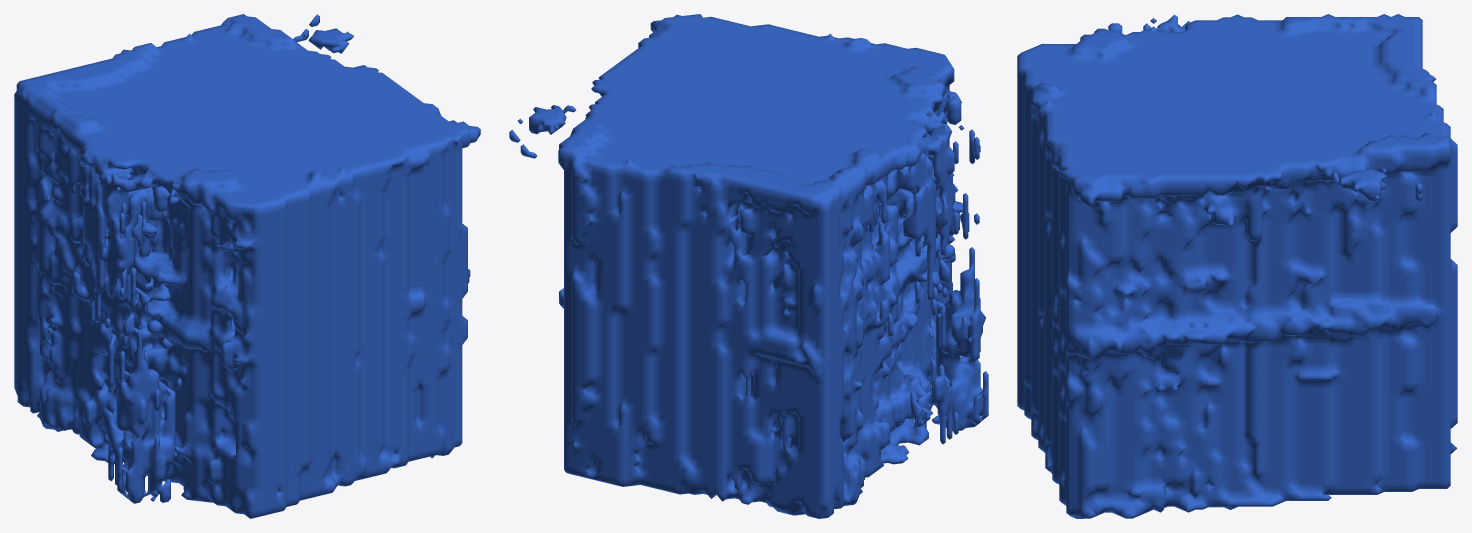
Rendered from gen9_colored.obj.
The picture shows the model from 3 angles, left to right: view 1: azimuth 30°, elevation 25°; view 2: azimuth 150°, elevation 25°; view 3: azimuth 270°, elevation 25°; orthographic projection. The views are drawn at different scales.
Parts seen in each view (by area): view 1: gen9.obj; view 2: gen9.obj; view 3: gen9.obj.
Part boxes in pixels (bbox=[...]): gen9.obj: bbox=[14, 14, 480, 518]; gen9.obj: bbox=[509, 14, 988, 518]; gen9.obj: bbox=[1017, 14, 1457, 518].
Size of the model in its own units: 63 by 56 by 63.
